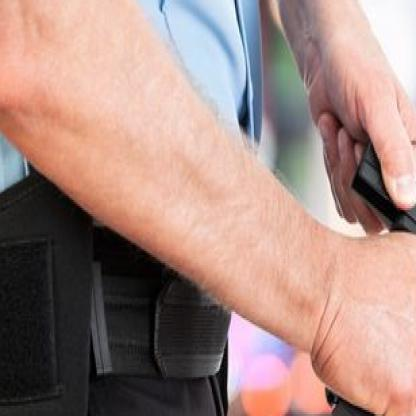gun: (322, 130, 414, 414)
